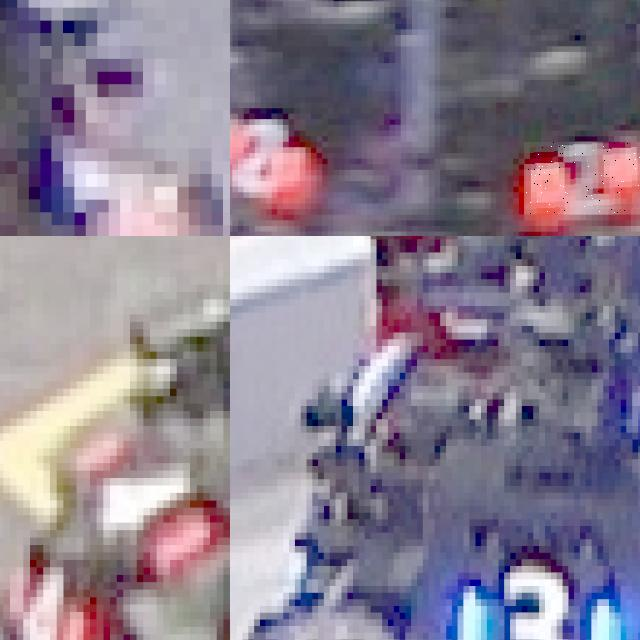B3: (451, 552, 626, 640)
R2: (524, 141, 640, 214), (230, 108, 311, 209)
R4: (63, 426, 210, 575), (0, 552, 96, 640)
